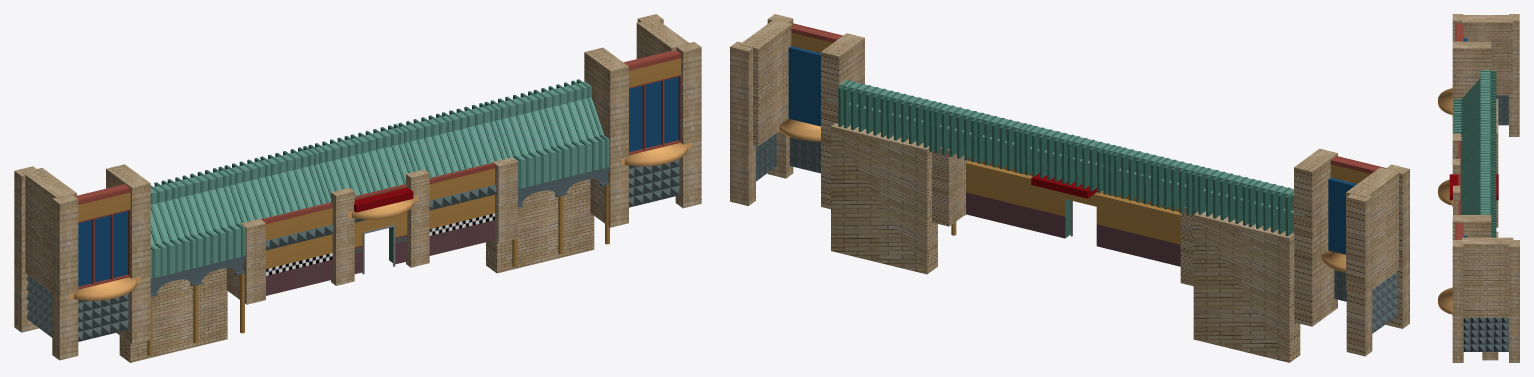
The model's file is Pizzeria_Outside.fbx.
3 views of the same model, side by side, from view 1: azimuth 30°, elevation 25°; view 2: azimuth 150°, elevation 25°; view 3: azimuth 270°, elevation 25° (orthographic). The views are drawn at different scales.
Visible parts, largest first — view 1: Cube.365; view 2: Cube.365; view 3: Cube.365.
Boxes of the visible parts, x1,y1,x2,y2 form: Cube.365: (14, 14, 701, 362); Cube.365: (730, 14, 1409, 362); Cube.365: (1438, 14, 1519, 362).
Size of the model in its own units: 2245 by 656 by 334.
21 materials, 16 textured.
